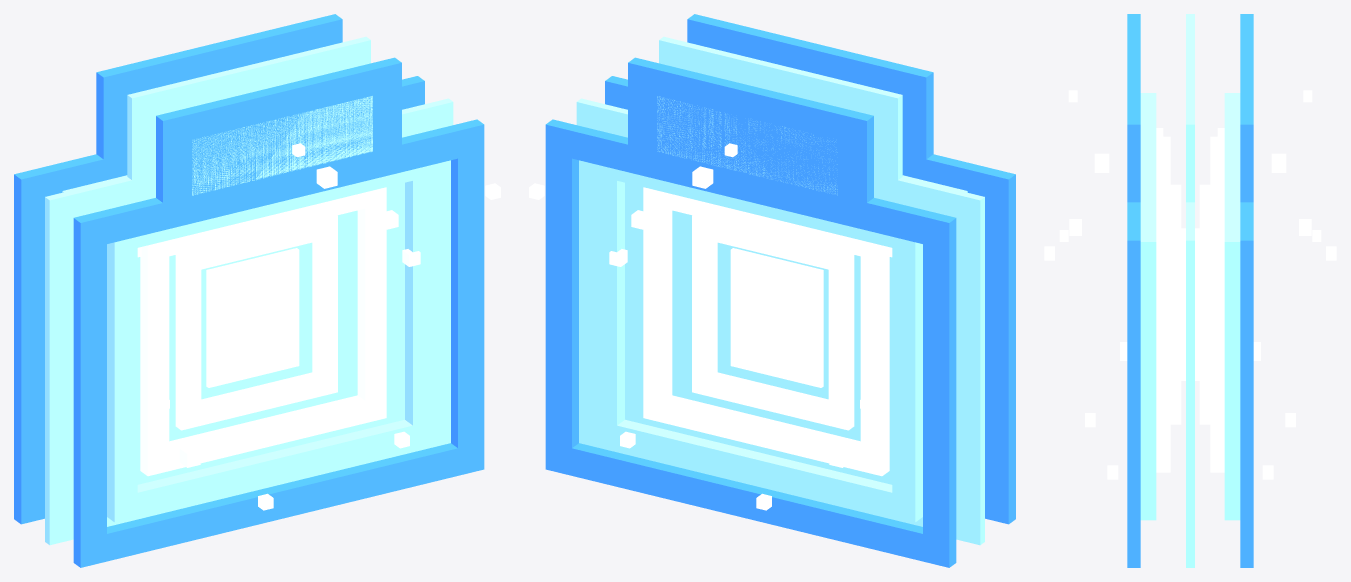
File: tt-portal-blue.glb
The picture shows the model from 3 angles, left to right: view 1: azimuth 30°, elevation 25°; view 2: azimuth 150°, elevation 25°; view 3: azimuth 270°, elevation 25°; orthographic projection. The views are drawn at different scales.
Visible parts, largest first — view 1: box-prop; view 2: box-prop; view 3: box-prop.
Part boxes in pixels (x1=…): box-prop: x1=14, y1=14, x2=500, y2=567; box-prop: x1=529, y1=14, x2=1015, y2=567; box-prop: x1=1044, y1=14, x2=1336, y2=567.
Size of the model in its own units: 4.9 by 4.95 by 3.24.
